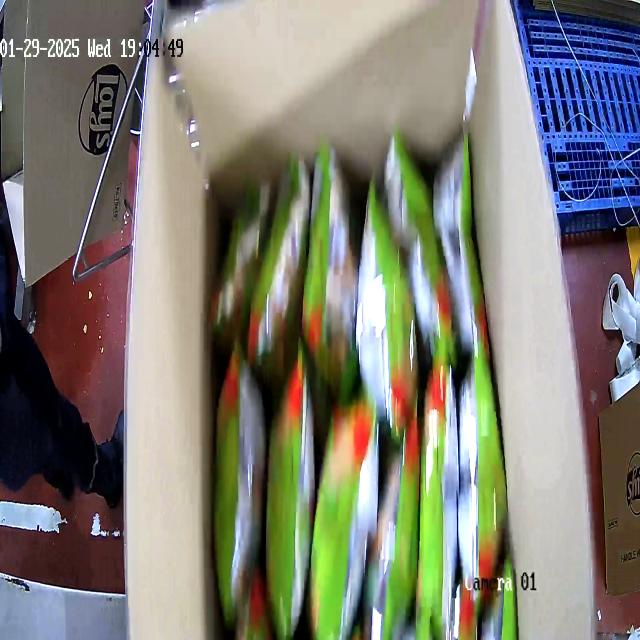YOGURT_HERB: (205, 110, 508, 640)
